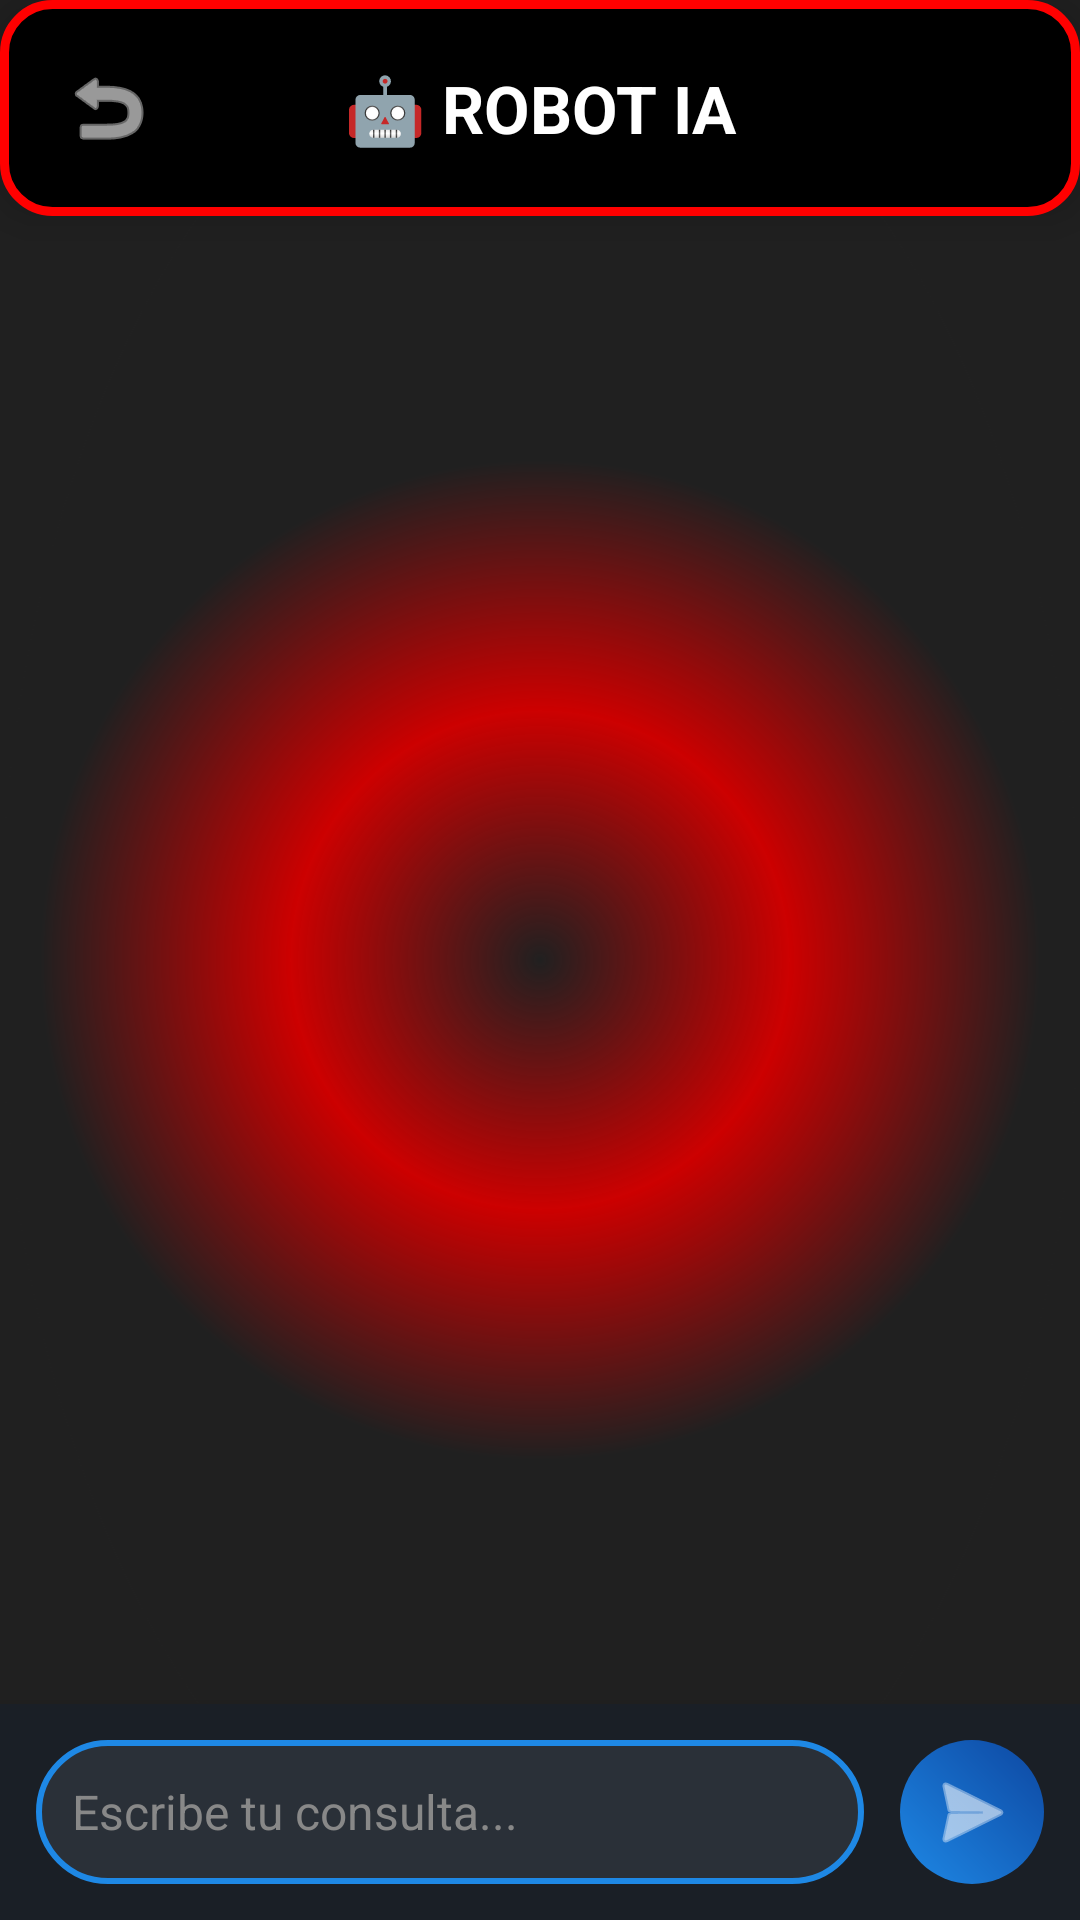

Icons on this 1080x1920 Android screen, each with its box as detection(x1, y1, x2, y2):
revert: detection(75, 77, 144, 140)
send: detection(900, 1740, 1044, 1884)
